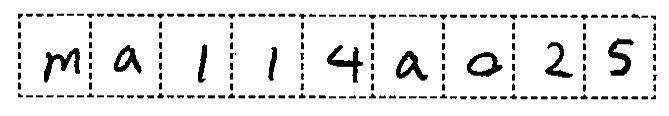0: (461, 44, 504, 84)
1: (259, 42, 294, 83), (187, 40, 217, 84)
2: (540, 37, 574, 83)
4: (320, 41, 366, 90)
5: (597, 34, 640, 80)
A: (388, 44, 432, 86), (108, 42, 146, 79)
M: (39, 40, 85, 88)
